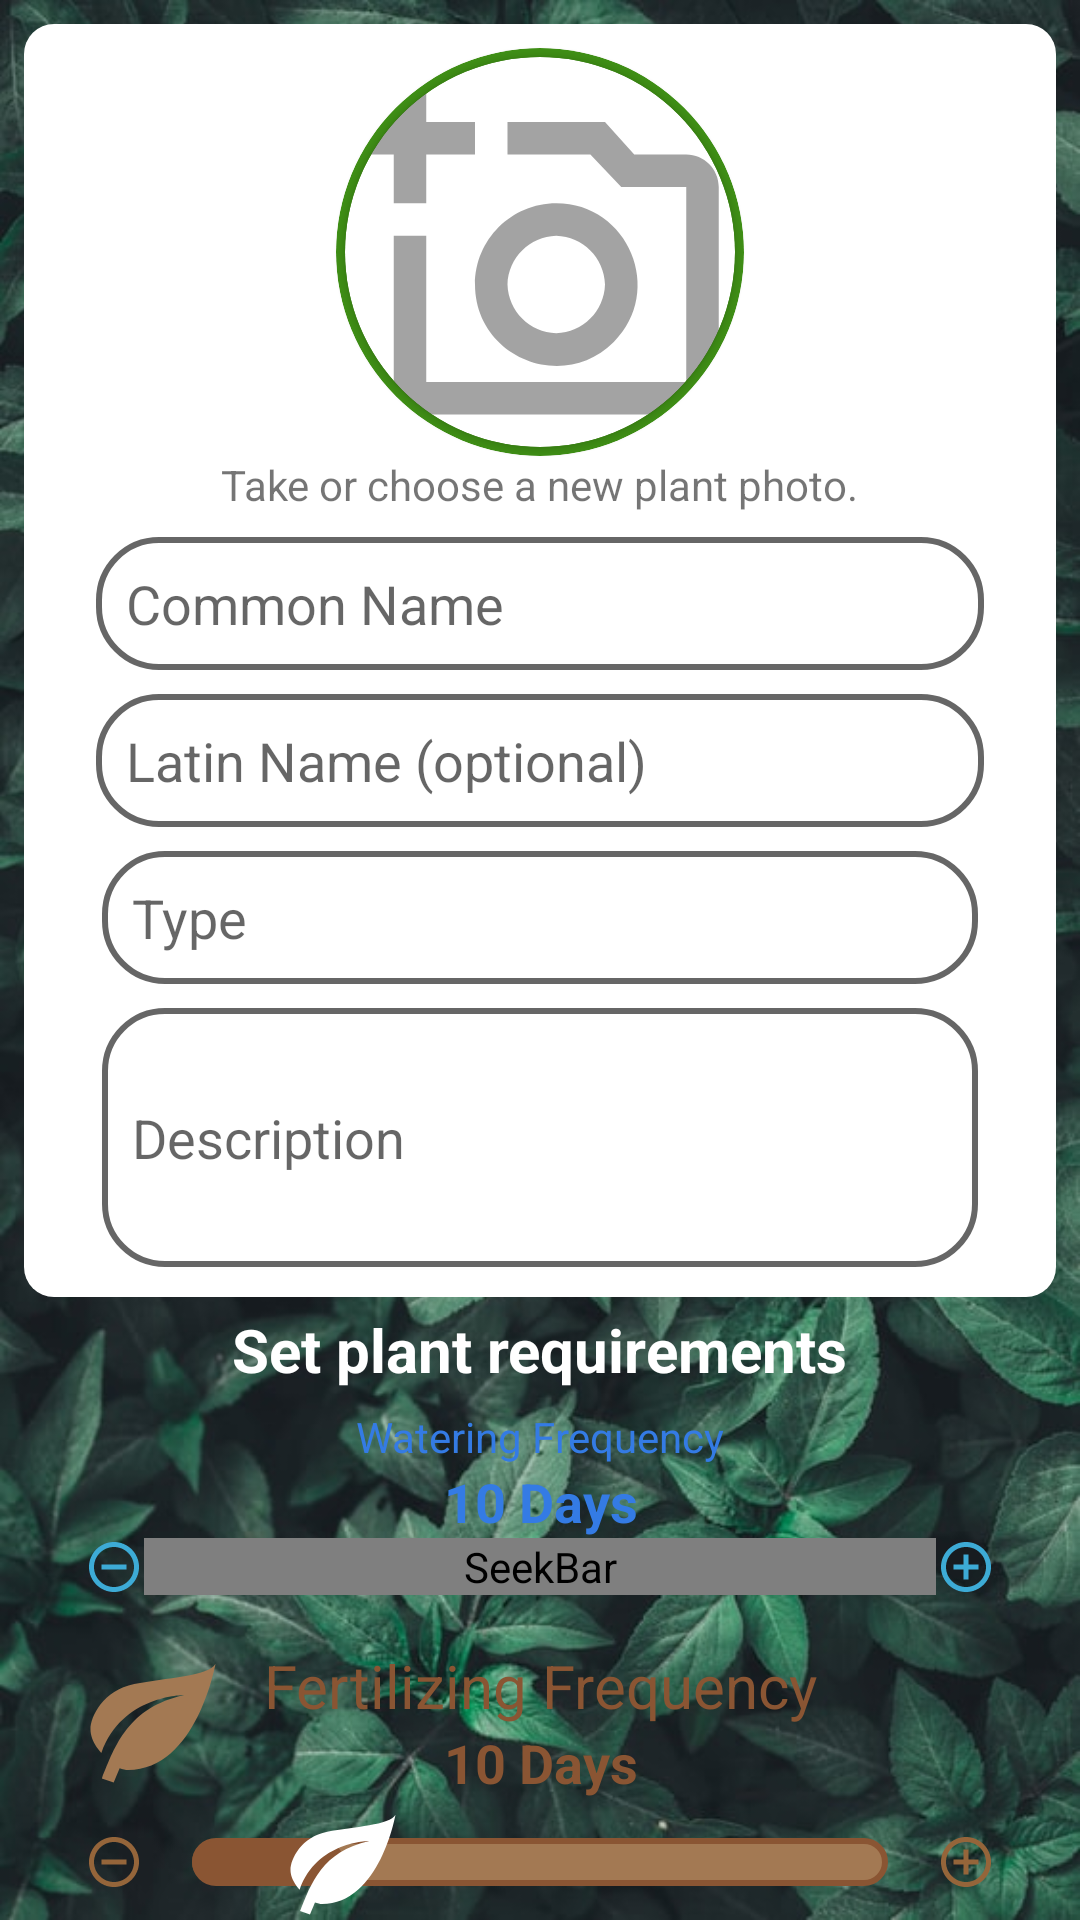

Named icons in this screenshot (1080px×1920px) and their centers, (x=x, y=y):
add circle: (x=966, y=1567), (x=966, y=1862)
fertilizer: (x=153, y=1720)
remove circle: (x=114, y=1567), (x=114, y=1862)
